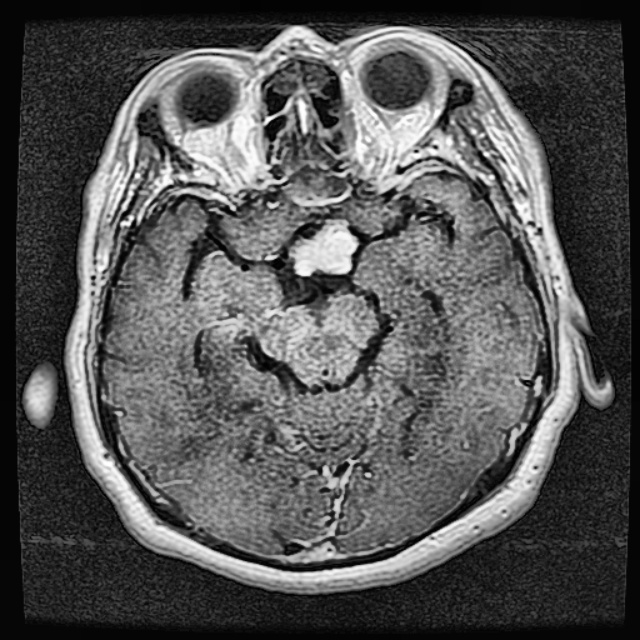Pituitary: (293, 227, 357, 274)
